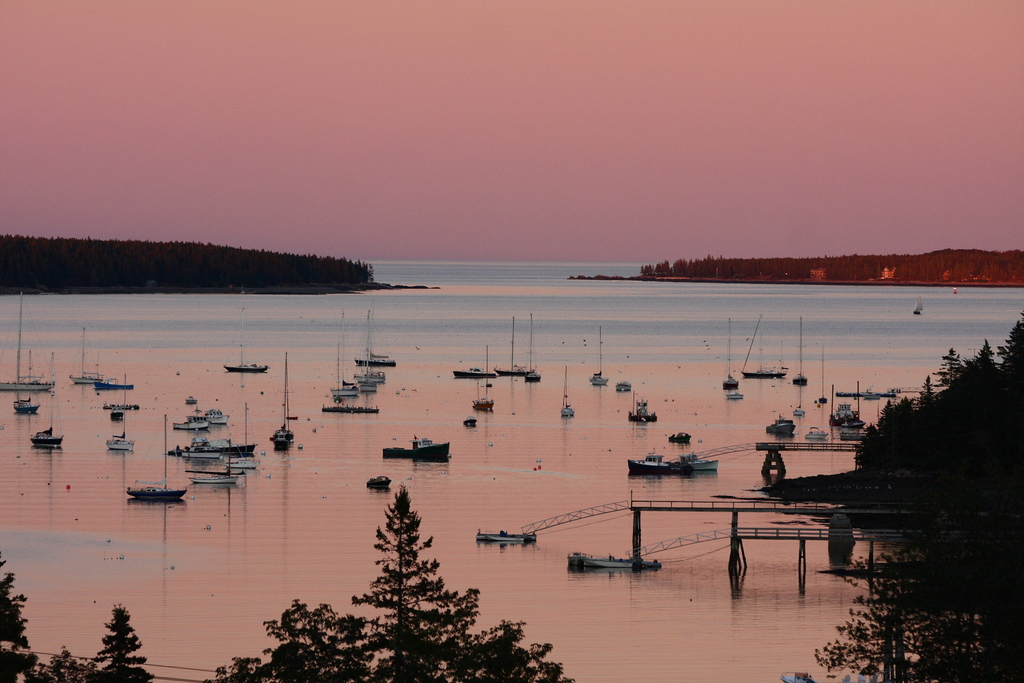Tree: (812, 309, 1023, 680), (348, 472, 468, 657), (217, 598, 394, 682), (424, 622, 590, 682), (68, 605, 165, 682), (0, 566, 35, 682)
